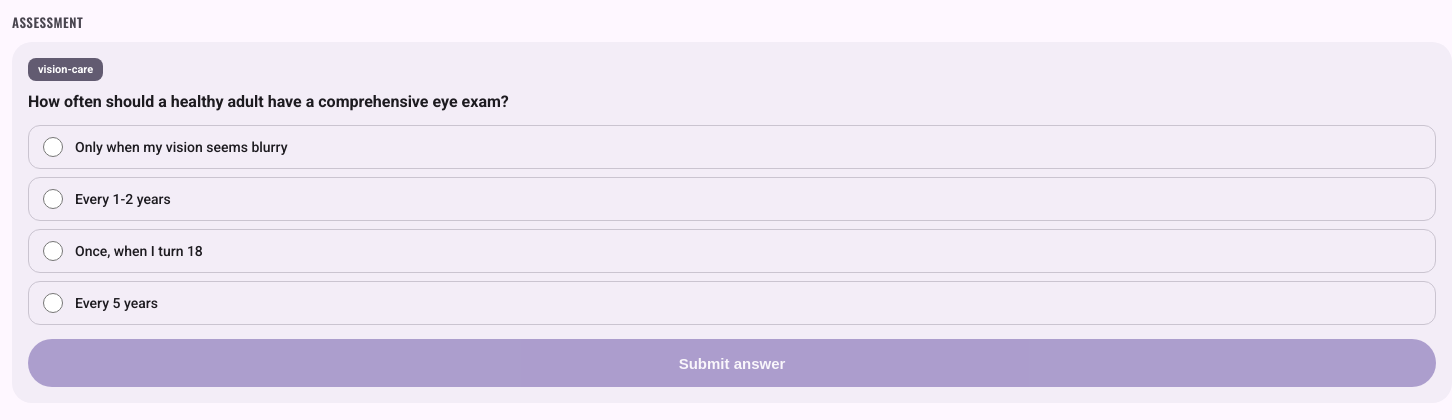
Test case: MCQ knowledge check (US-18 / FR-E4) › cannot be submitted until an option is chosen
Expected: the button "Submit answer" is disabled, [28,339,1436,387]
Click the radio button labelled "Every 1-2 years" at (53, 199), box [43,189,63,209]
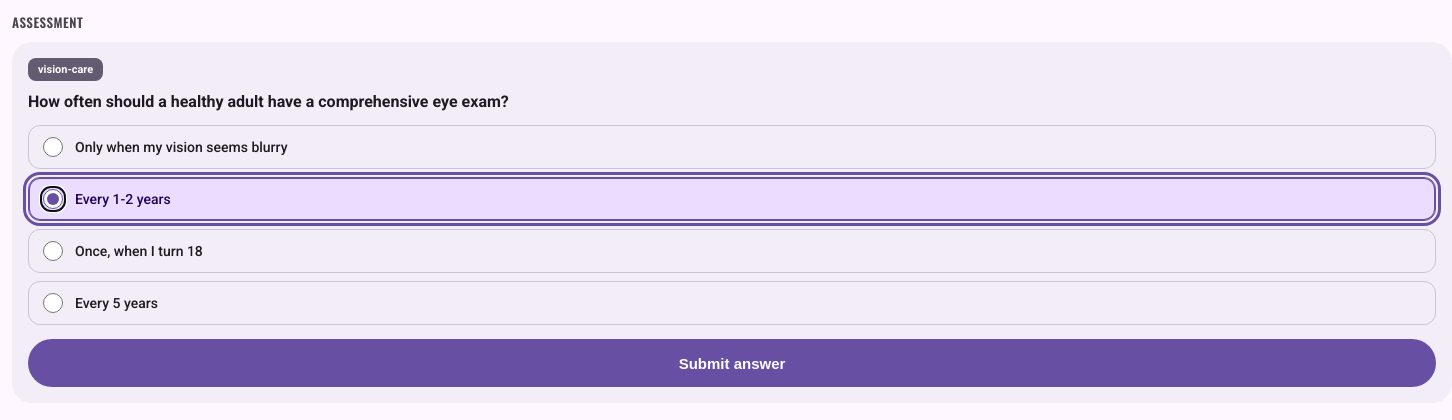
Expected: the button "Submit answer" is enabled, [28,339,1436,387]
